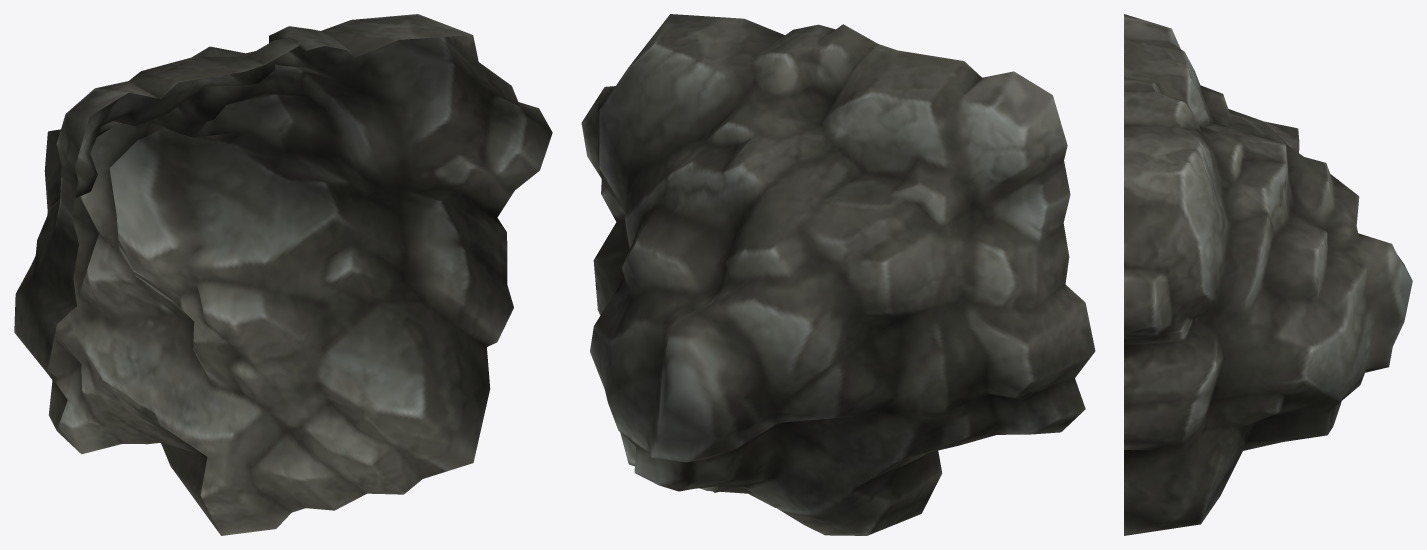
The model's file is Rock1.fbx.
The picture shows the model from 3 angles, left to right: view 1: azimuth 30°, elevation 25°; view 2: azimuth 150°, elevation 25°; view 3: azimuth 270°, elevation 25°; orthographic projection. The views are drawn at different scales.
Parts seen in each view (by area): view 1: Rock1; view 2: Rock1; view 3: Rock1.
Part boxes in pixels (x1,y1,x2,y2): Rock1: (14,14,552,535); Rock1: (581,14,1095,535); Rock1: (1124,14,1412,535).
Bounding box in the file's own units: 9.29 × 8.39 × 5.52.
1 material, 1 textured.
